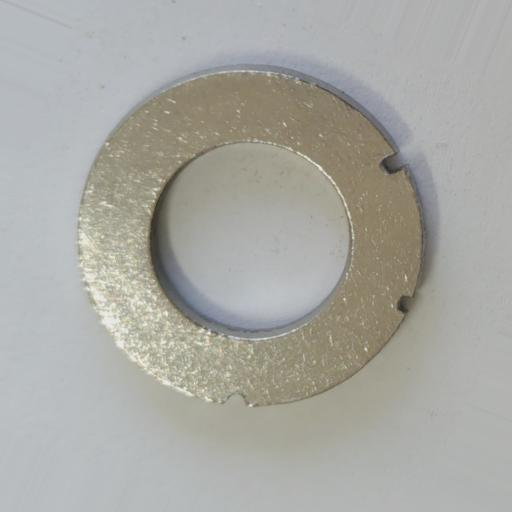burr: (378, 151, 409, 178), (221, 389, 250, 408), (397, 294, 414, 314)
